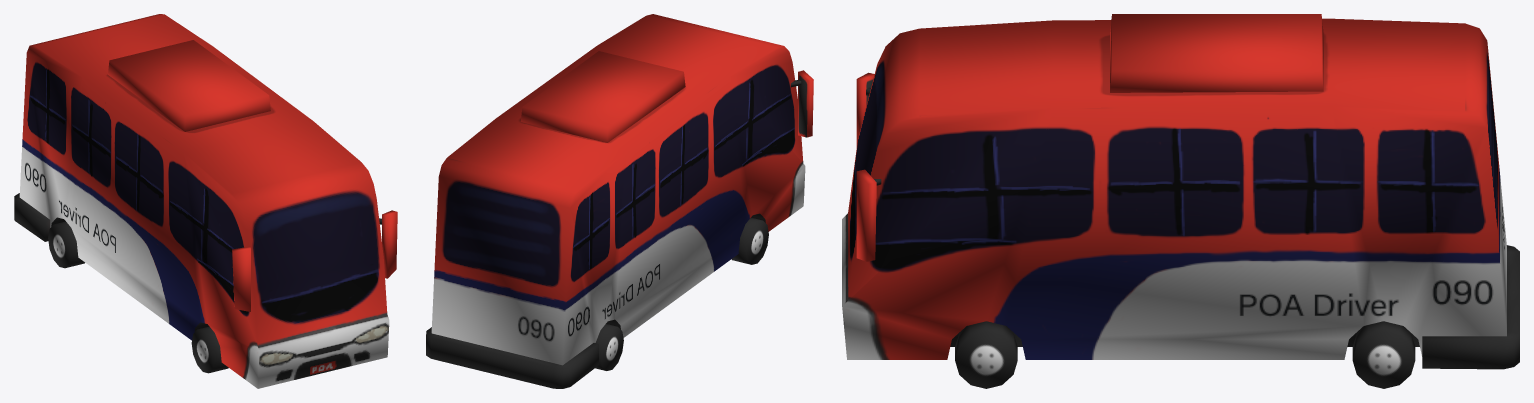
File: Onibus_1.glb
3 views of the same model, side by side, from view 1: azimuth 30°, elevation 25°; view 2: azimuth 150°, elevation 25°; view 3: azimuth 270°, elevation 25° (orthographic). The views are drawn at different scales.
Visible parts, largest first — view 1: Lotacao; view 2: Lotacao; view 3: Lotacao.
Boxes of the visible parts, x1,y1,x2,y2 form: Lotacao: [14, 14, 397, 388]; Lotacao: [426, 14, 813, 388]; Lotacao: [842, 14, 1519, 388].
Bounding box in the file's own units: 3.58 × 4.47 × 9.17.
1 material, 1 textured.
